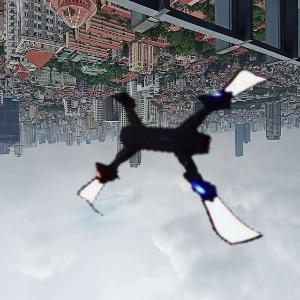drone: (91, 44, 290, 243)
